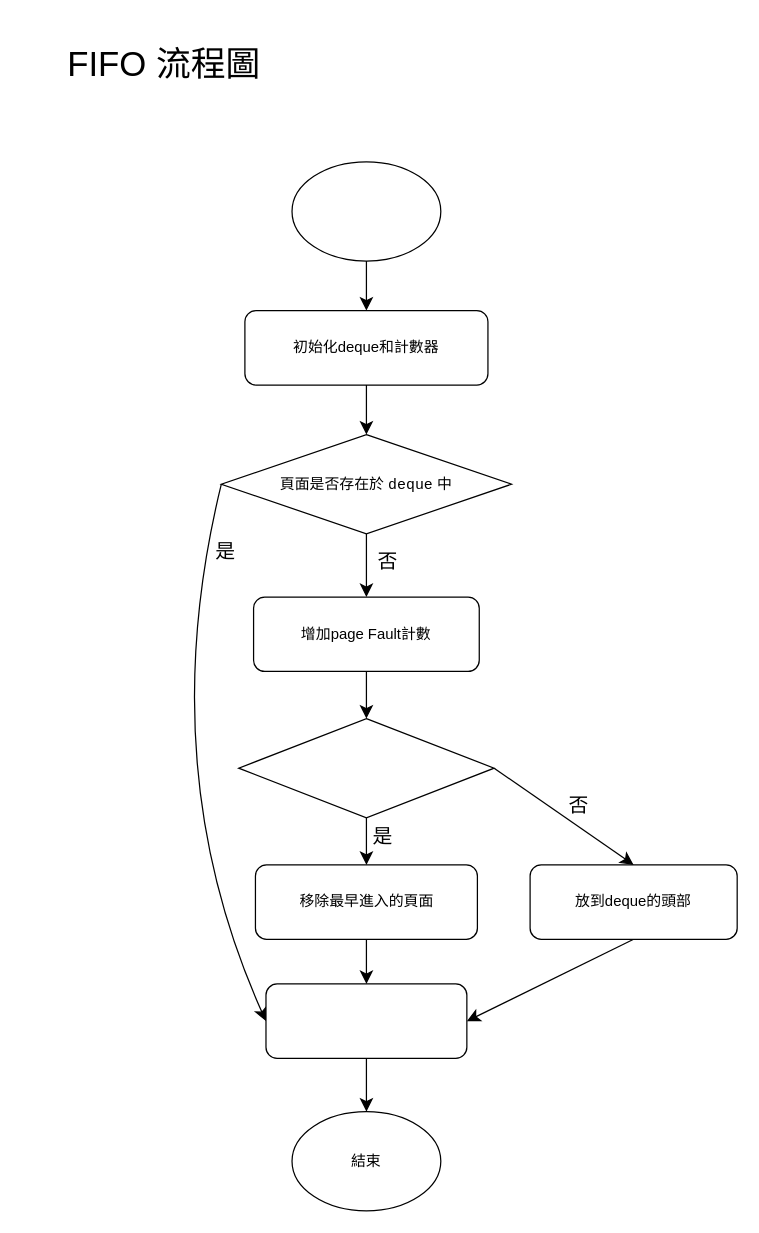
The diagram is 759 pixels wide and 1233 high, and some of its shapes have lost their labels. The centre of each missing label's shape, as x and y in pixels:
deque 是否已滿: the point at 365,767
輸出 Page Fault 和 Page Replace 次數: the point at 366,1020
開始: the point at 366,211
